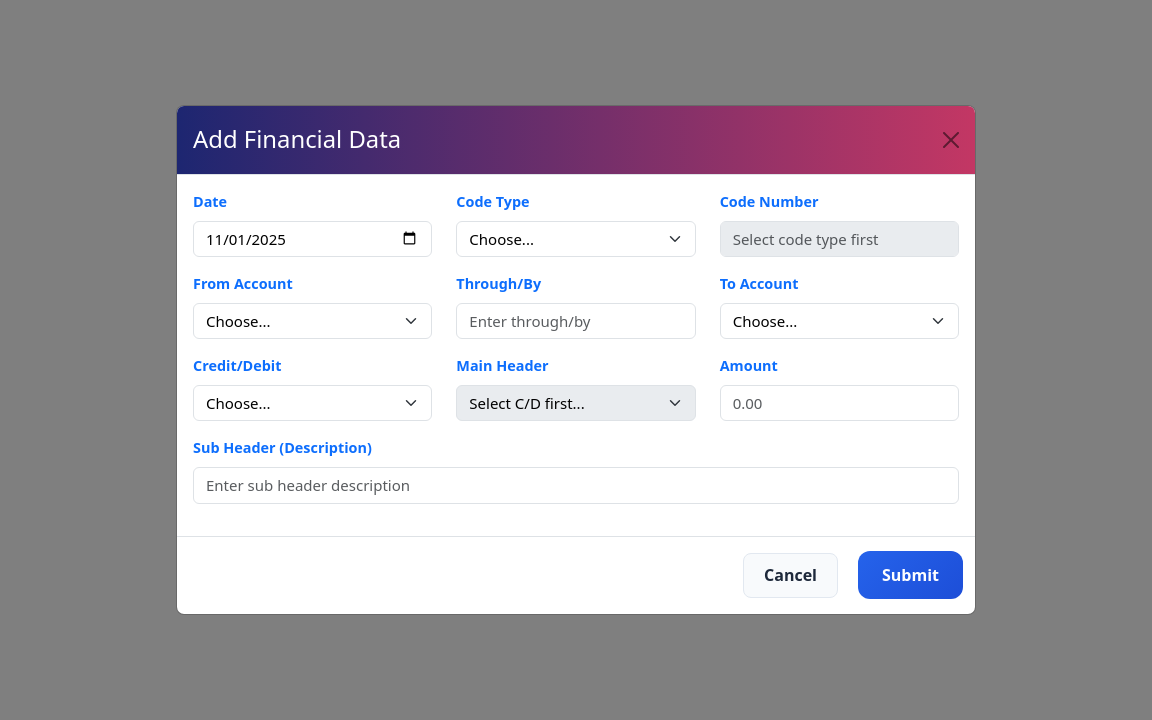
Test: AddFinancialDataModal › shows code suggestions for selected code type and allows selecting one
Select "COM - Company" in the dropdown below "Code Type" at (576, 239), box [456, 221, 696, 257]
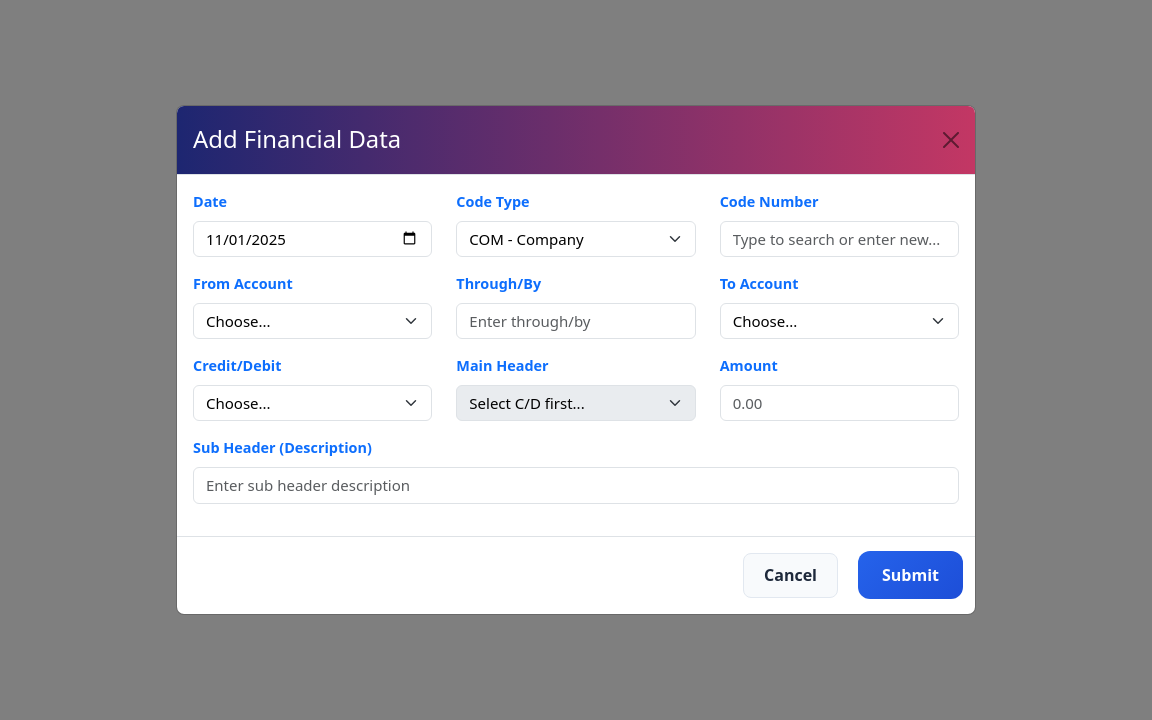
Type "X" into the field with placeholder "Type to search or enter new..." at (839, 239), box [720, 221, 959, 257]
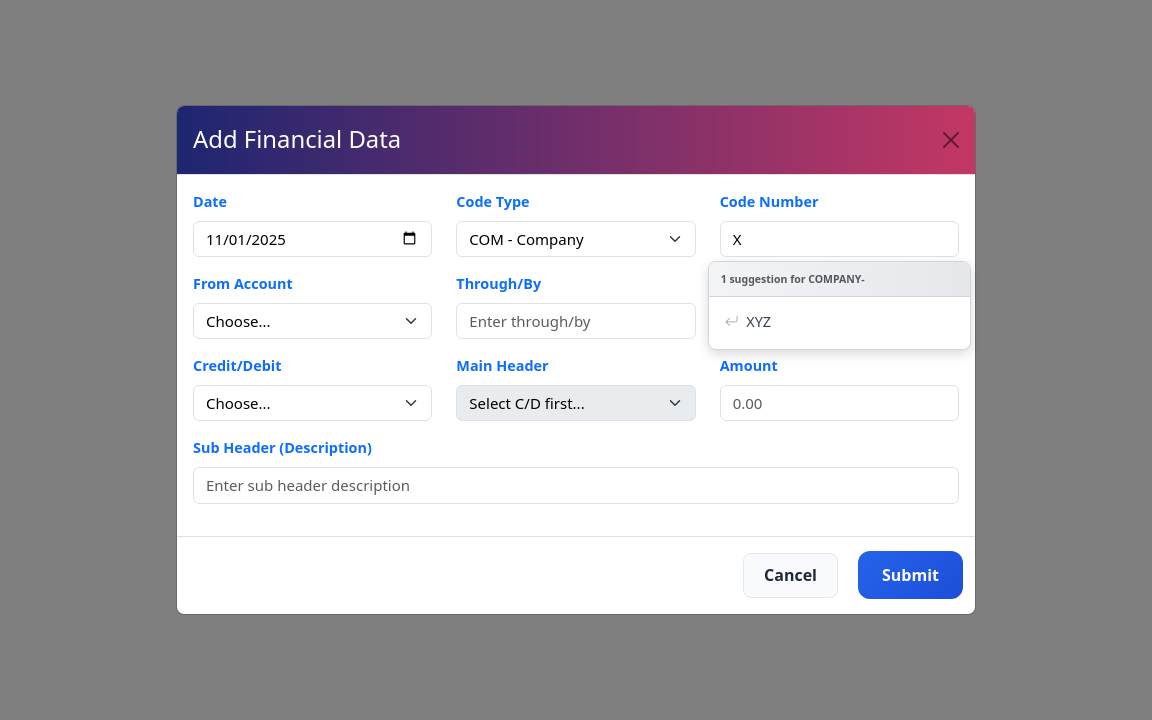
Expected: the text "1 suggestion for COMPANY- XYZ" is shown, [708, 261, 971, 350]
Expected: the element with class "suggestions-list" is shown
Click the text "XYZ" at (748, 322), box [725, 312, 771, 332]
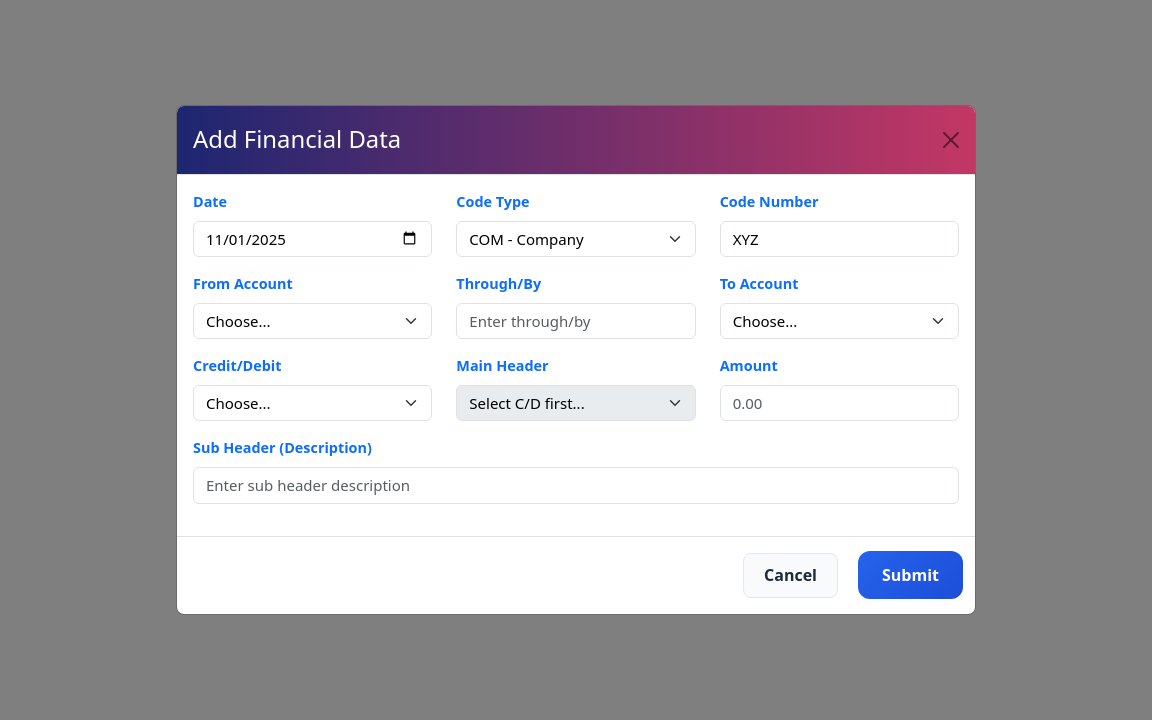
Expected: the 1st field holds "XYZ", [720, 221, 959, 257]
